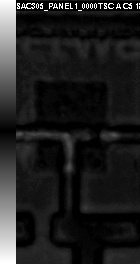led: (35, 81, 109, 173)
